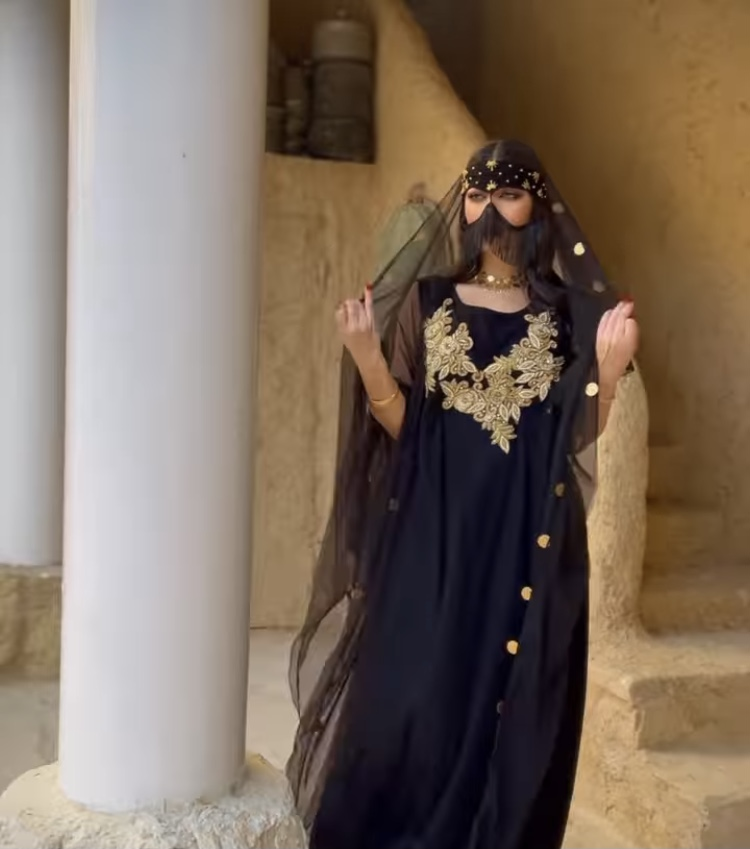Saudi_Founding_Day: (284, 137, 637, 849)
